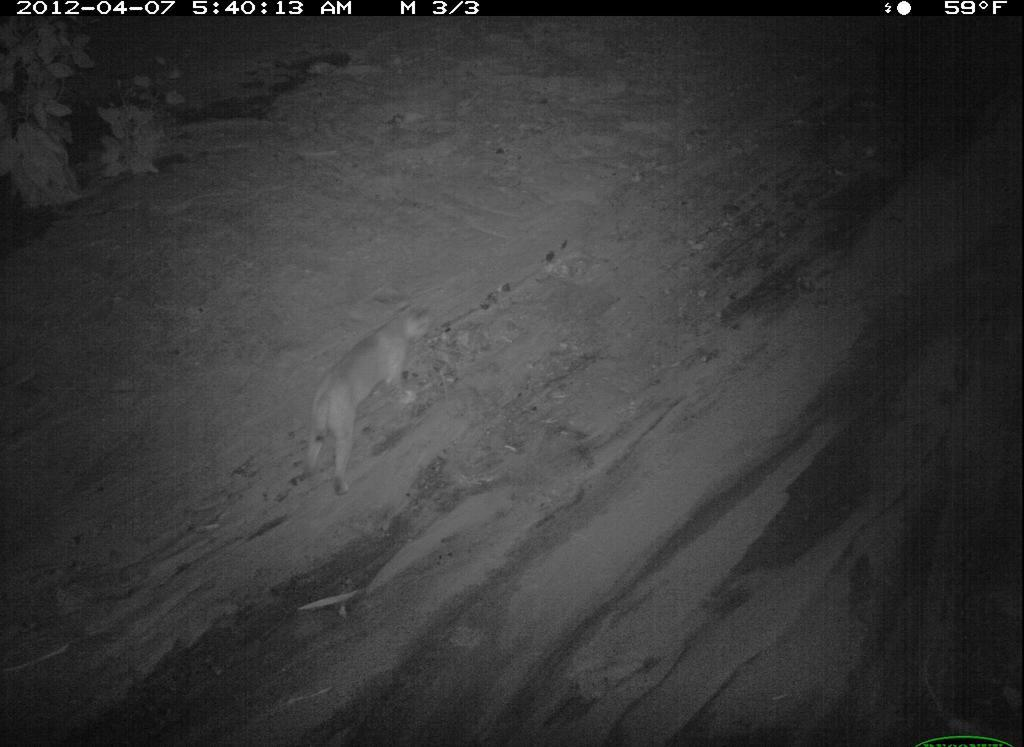bobcat: (594, 590, 874, 747)
